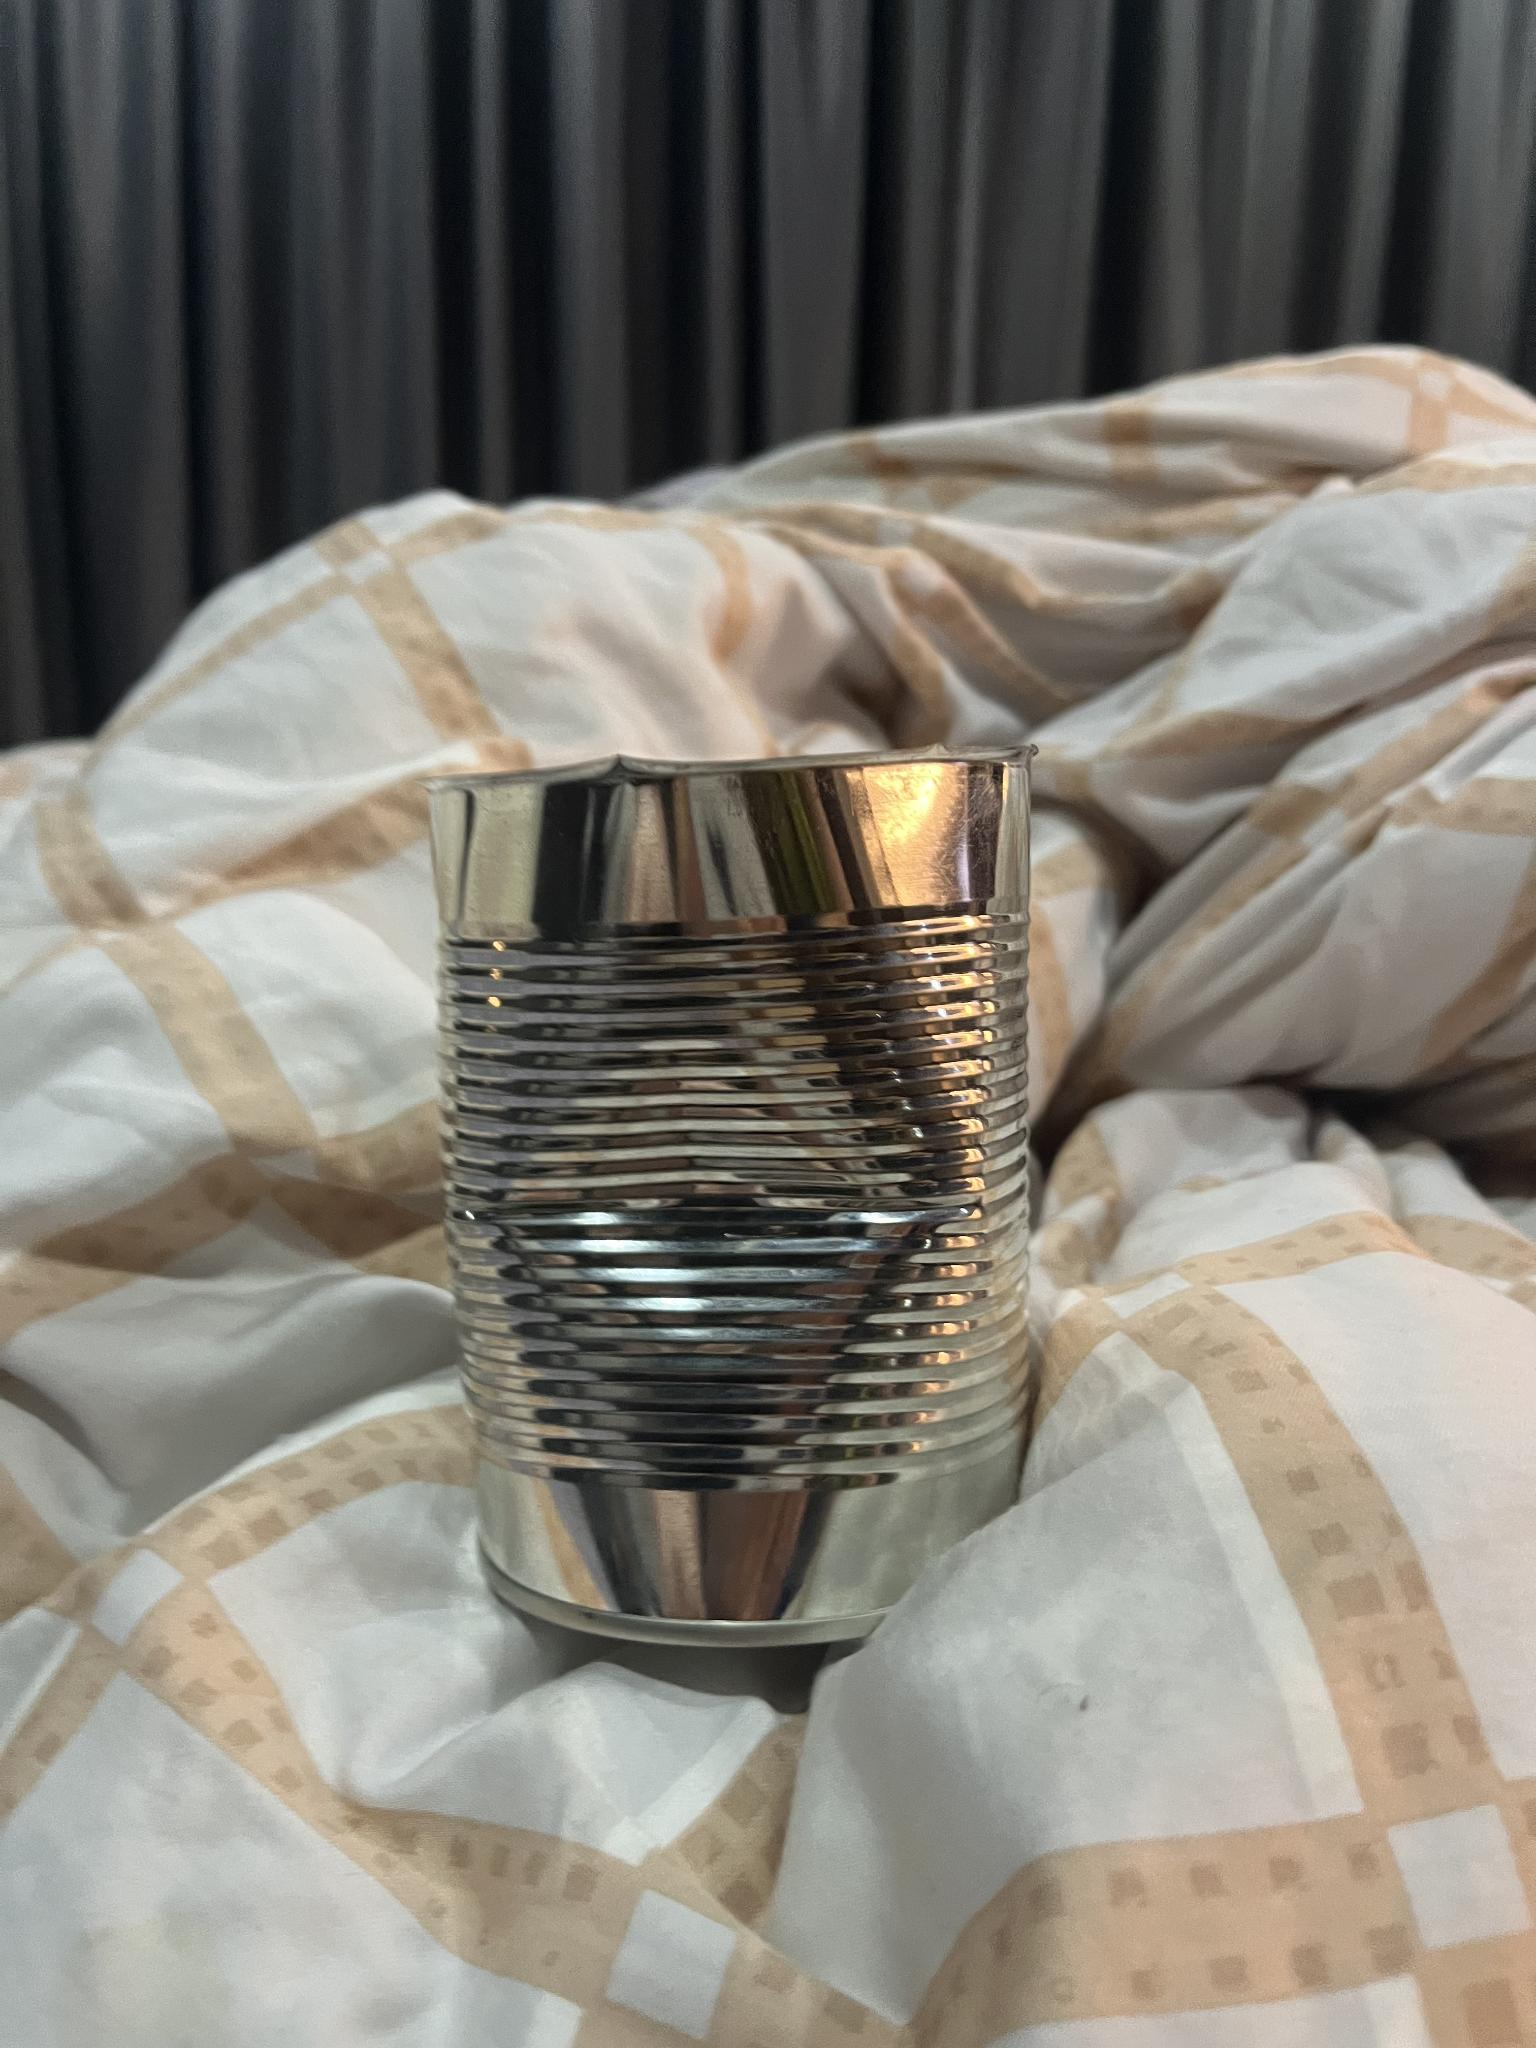metal: (431, 748, 1029, 1646)
